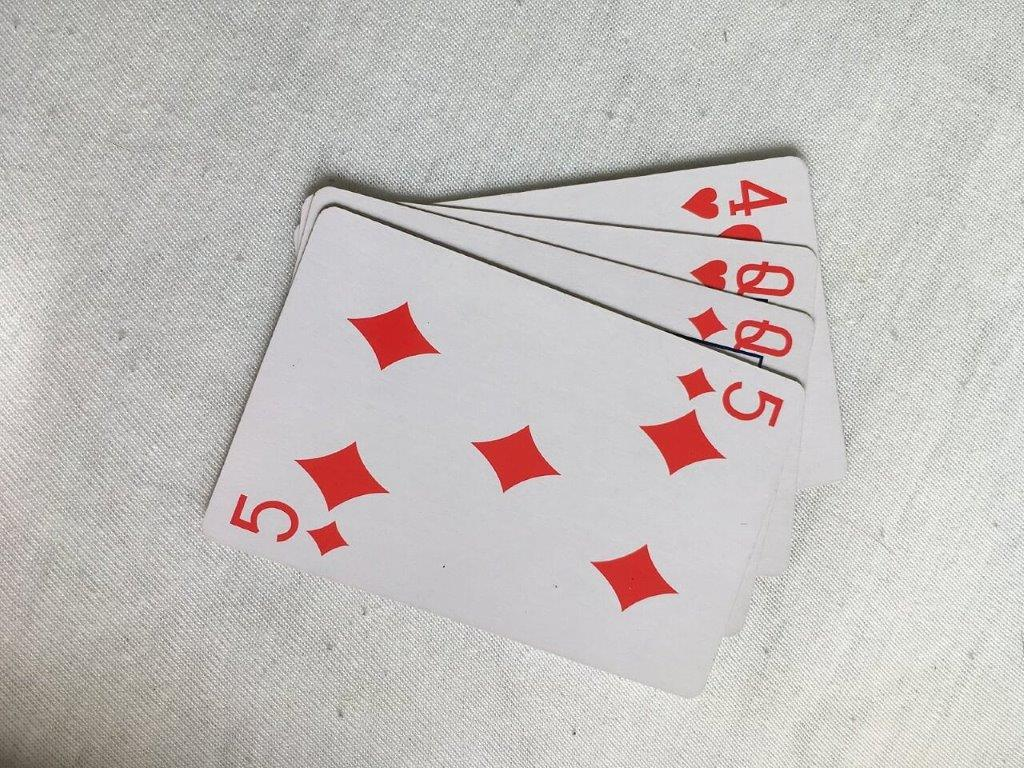4H: (560, 155, 818, 242)
5D: (200, 201, 807, 700)
QD: (677, 285, 815, 360)
QH: (679, 232, 821, 308)
